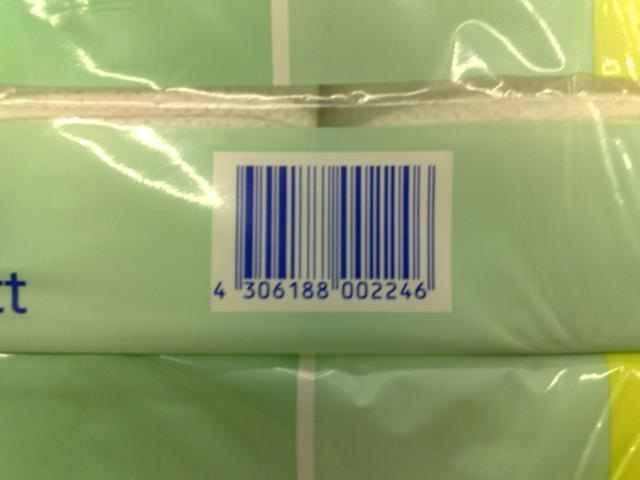Barcode: (213, 151, 451, 314)
